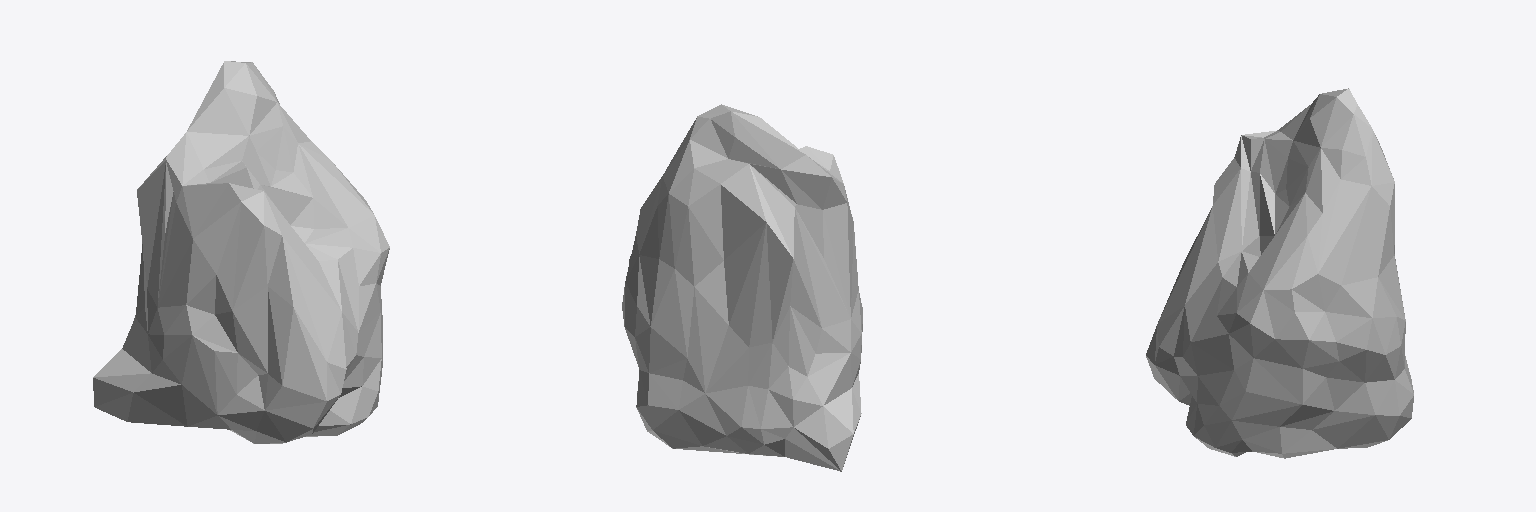
File: Rock2.obj
3 views of the same model, side by side, from view 1: azimuth 30°, elevation 25°; view 2: azimuth 150°, elevation 25°; view 3: azimuth 270°, elevation 25° (orthographic).
Visible parts, largest first — view 1: Rock3:Group21117; view 2: Rock3:Group21117; view 3: Rock3:Group21117.
Boxes of the visible parts, <box> form: Rock3:Group21117: <box>93,61,389,443</box>; Rock3:Group21117: <box>622,104,862,471</box>; Rock3:Group21117: <box>1146,88,1413,458</box>.
Size of the model in its own units: 3.64 by 4.73 by 3.41.